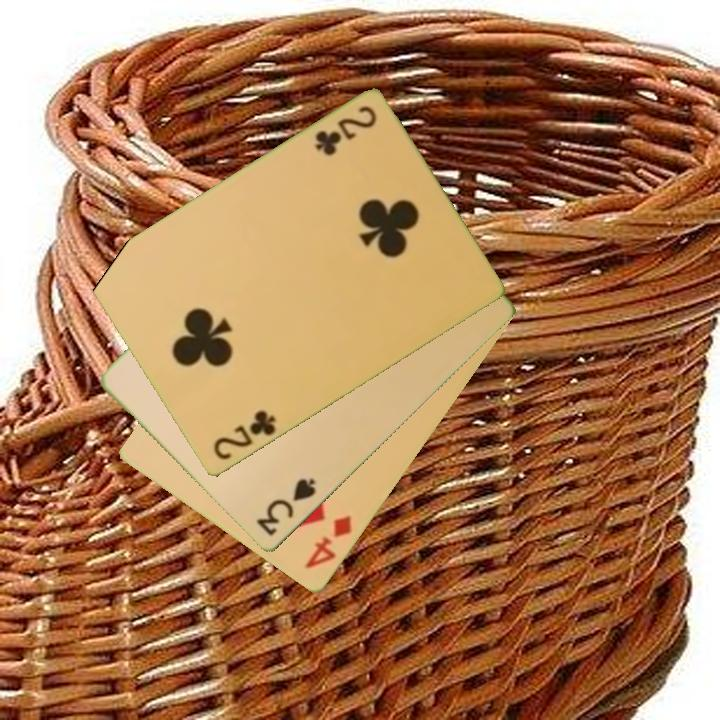2c: (209, 407, 279, 464), (311, 102, 380, 159)
3s: (252, 475, 319, 540)
4d: (301, 512, 355, 572)
